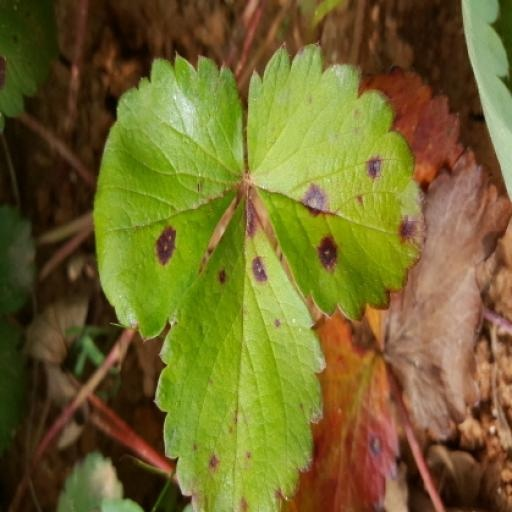Leaf Spot: (154, 193, 328, 511), (247, 40, 429, 325), (92, 50, 248, 344), (282, 296, 401, 511)
